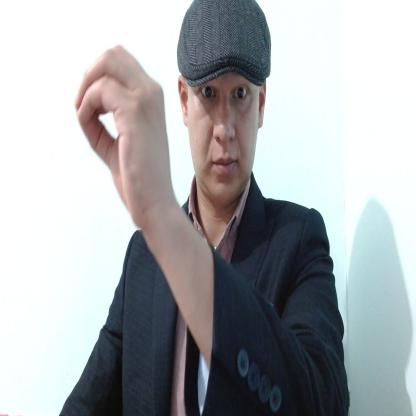O: (74, 42, 172, 229)
